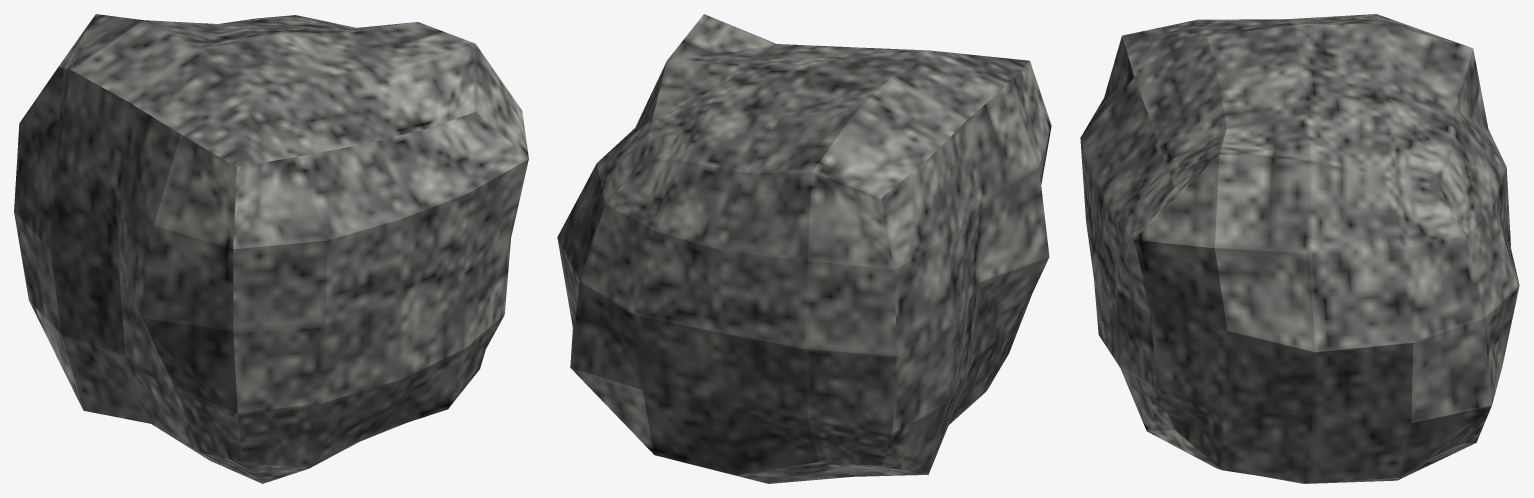
The model's file is SM_EC_Rock_12.fbx.
3 renders of one model, left to right at view 1: azimuth 30°, elevation 25°; view 2: azimuth 150°, elevation 25°; view 3: azimuth 270°, elevation 25°, orthographic. The views are drawn at different scales.
Parts seen in each view (by area): view 1: SM_EC_Rock_12; view 2: SM_EC_Rock_12; view 3: SM_EC_Rock_12.
Boxes of the visible parts, x1,y1,x2,y2 form: SM_EC_Rock_12: (14,14,528,483); SM_EC_Rock_12: (557,14,1051,483); SM_EC_Rock_12: (1080,14,1519,483).
Size of the model in its own units: 0.7684 by 0.7234 by 0.7211.
